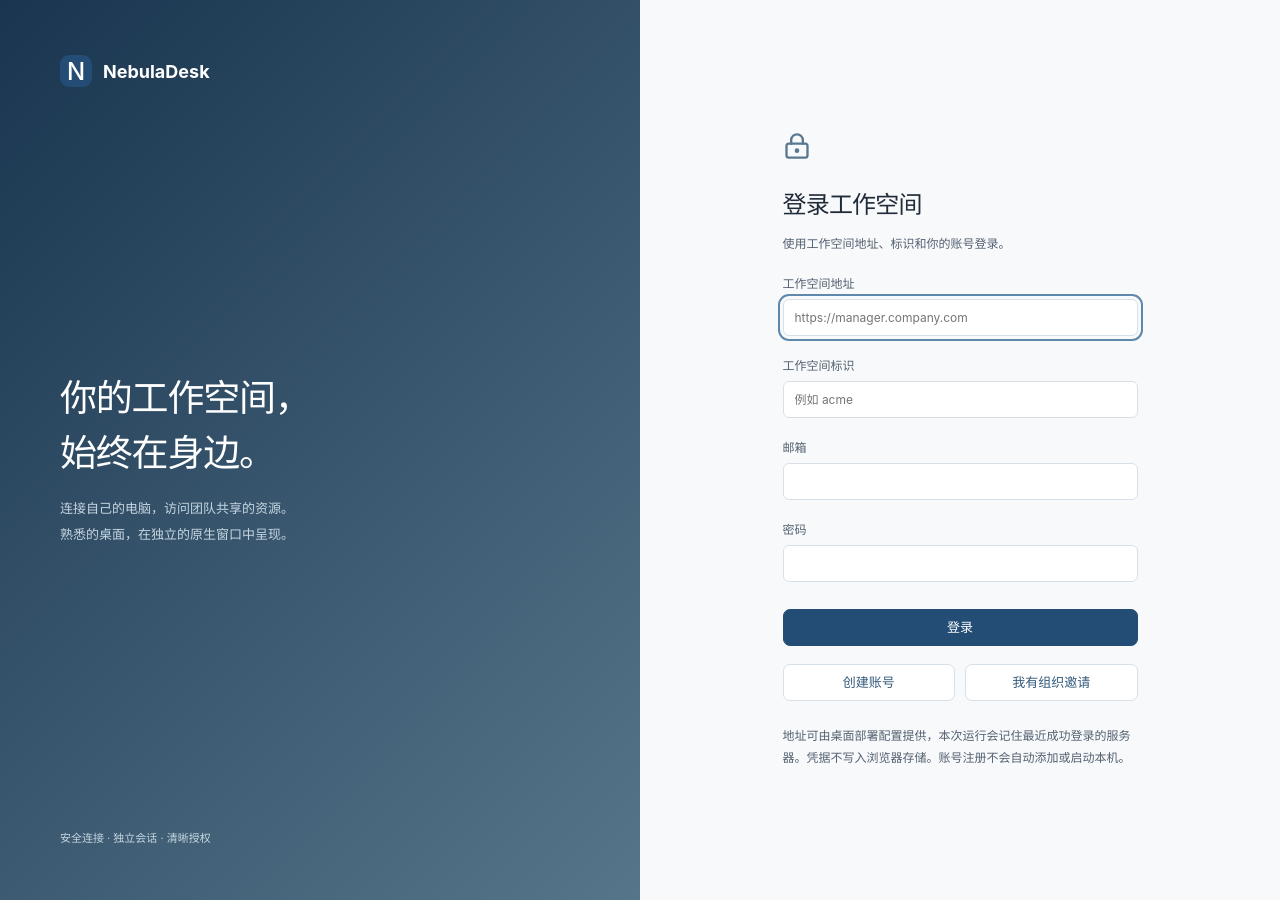
account onboarding › ignores a capability response for an edited server and exposes retryable capability errors
The width and height of the screenshot is (1280, 900).
Click the button "创建账号": (869,683) top-left (782, 664), bottom-right (955, 701)
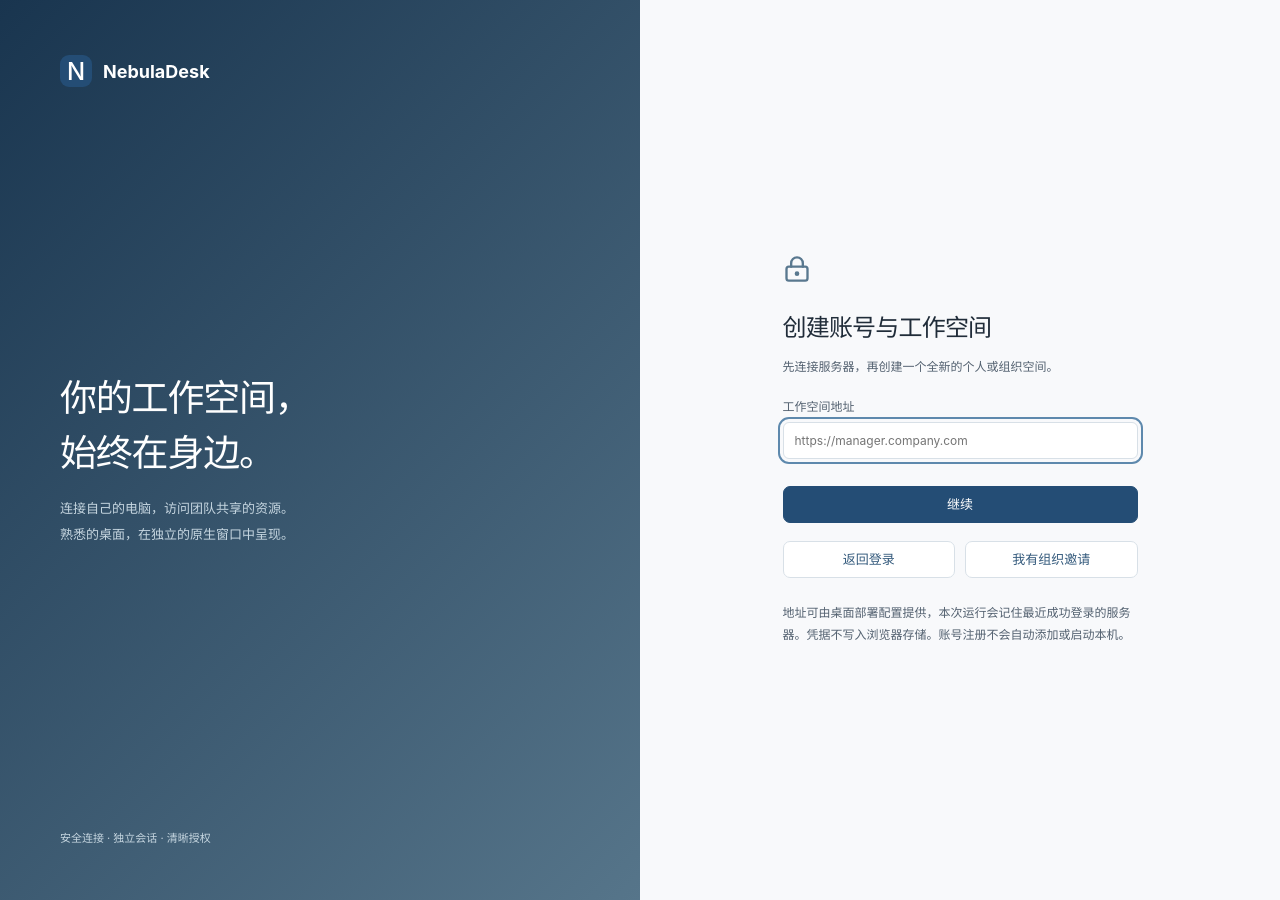
In the field labelled "工作空间地址": (960,441) top-left (782, 422), bottom-right (1138, 459), type "https://old.test"
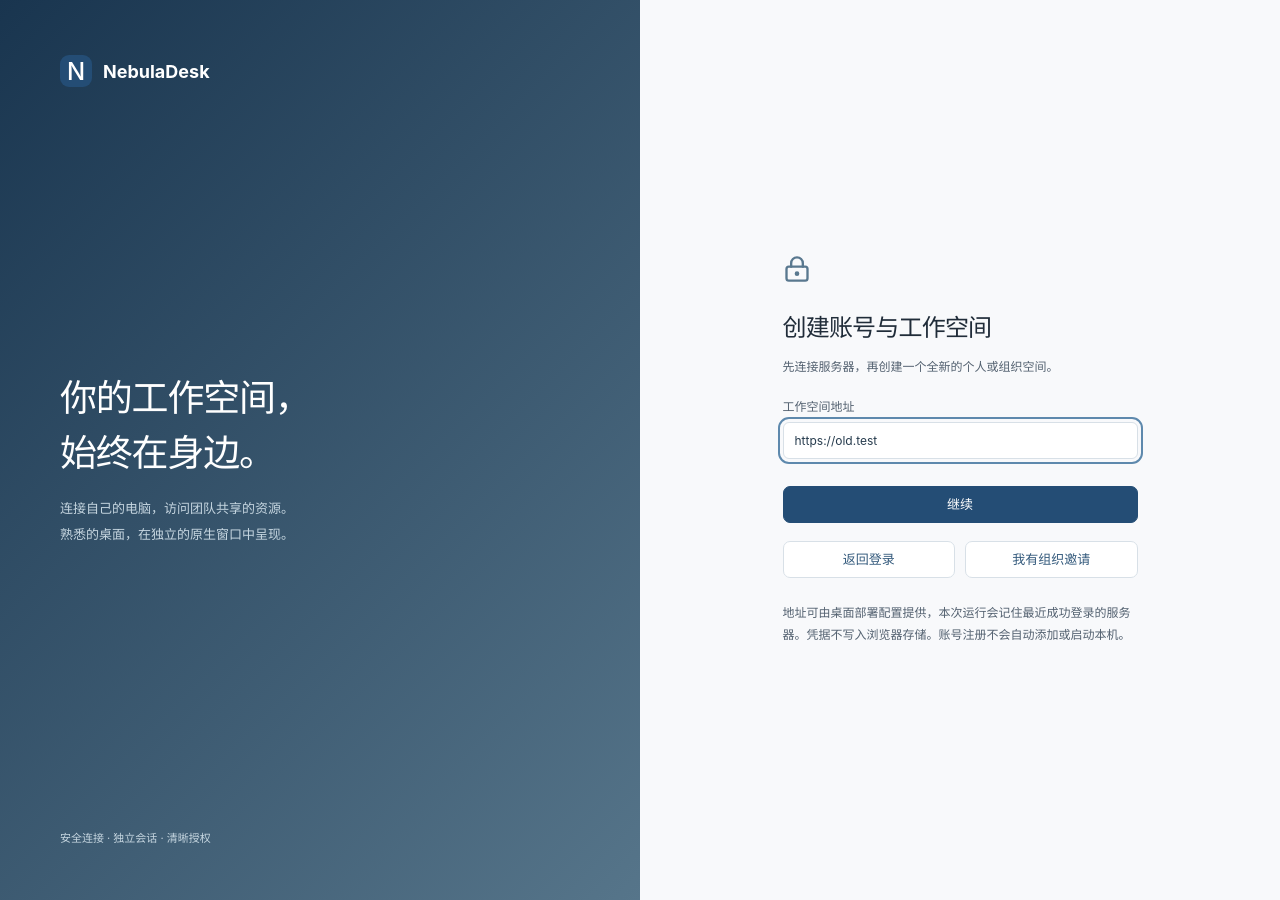
Click the button "继续": (960,505) top-left (782, 486), bottom-right (1138, 523)
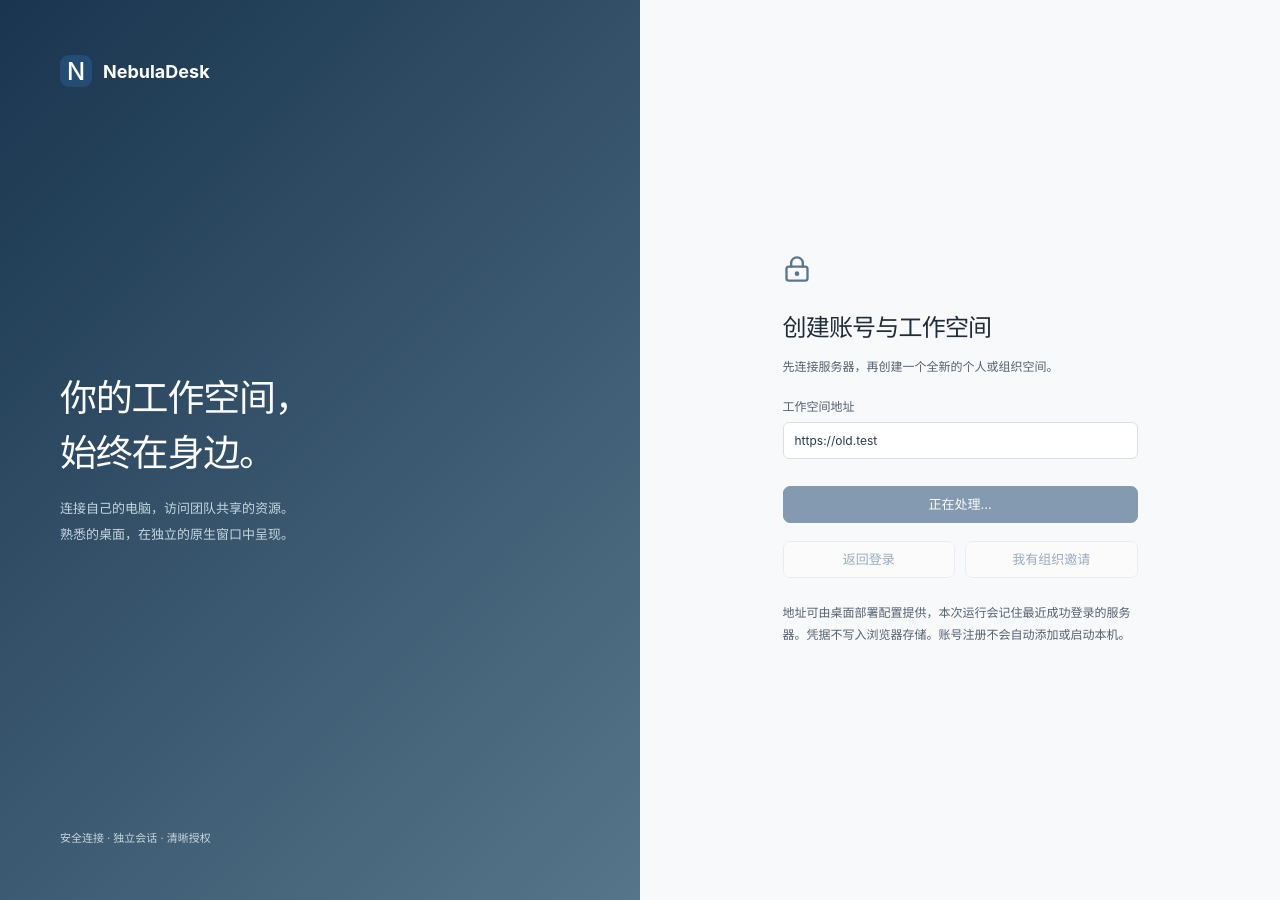
Replace the text in the field labelled "工作空间地址" with "https://new.test": (960,441) top-left (782, 422), bottom-right (1138, 459)
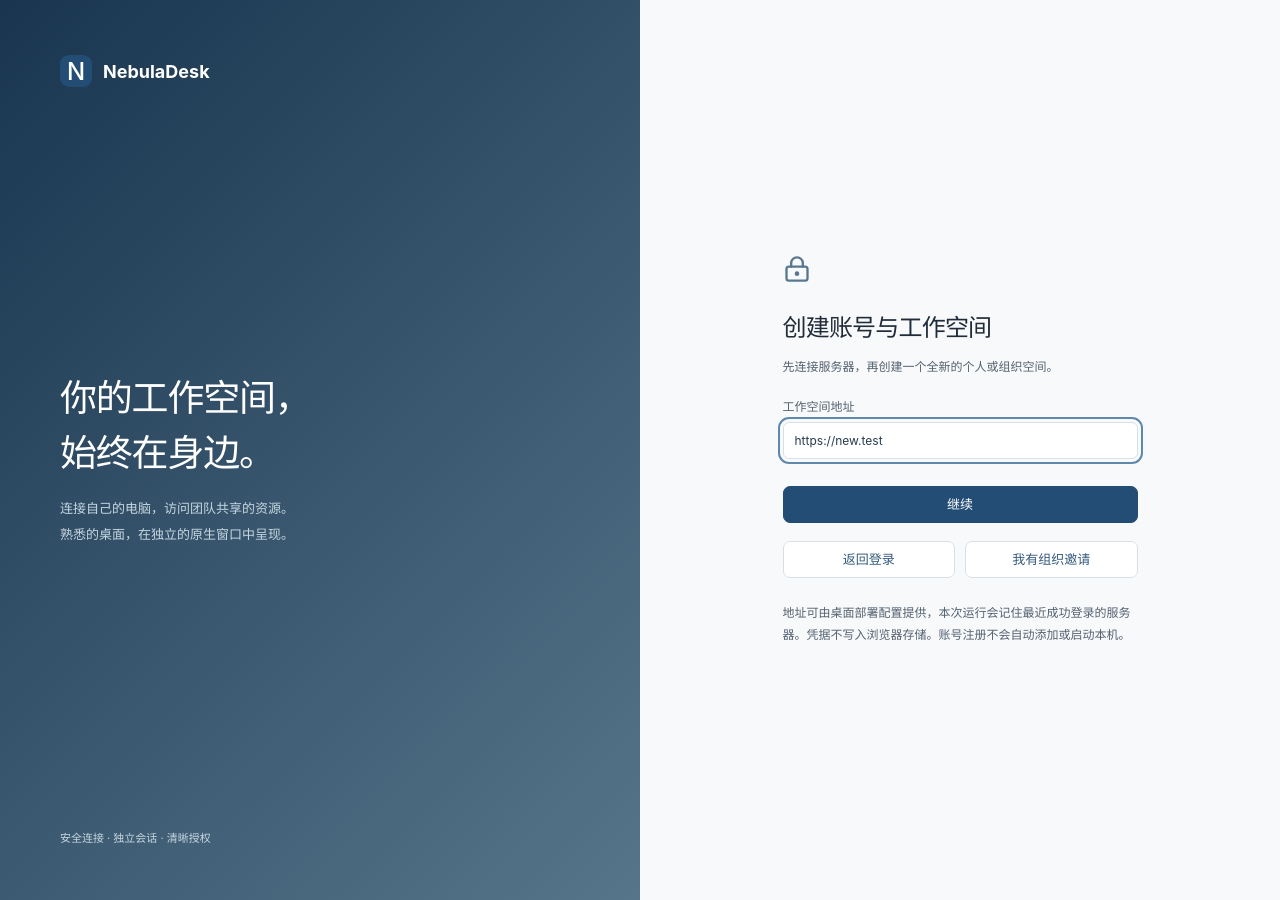
Click the button "继续": (960,505) top-left (782, 486), bottom-right (1138, 523)
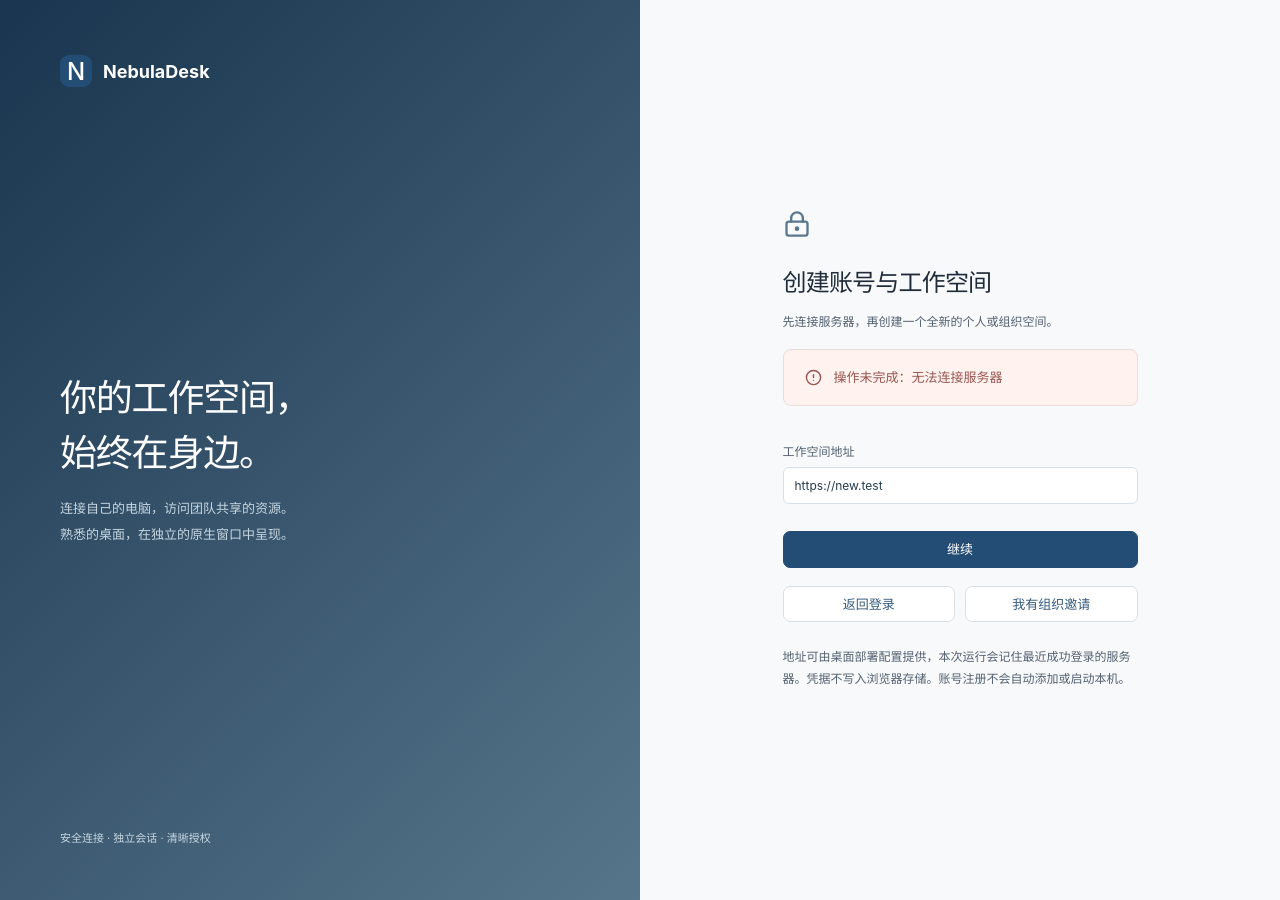
Expected: the label labelled "密码" is not shown
Now the message shows "无法连接服务器", box top-left (834, 369), bottom-right (1002, 385)
